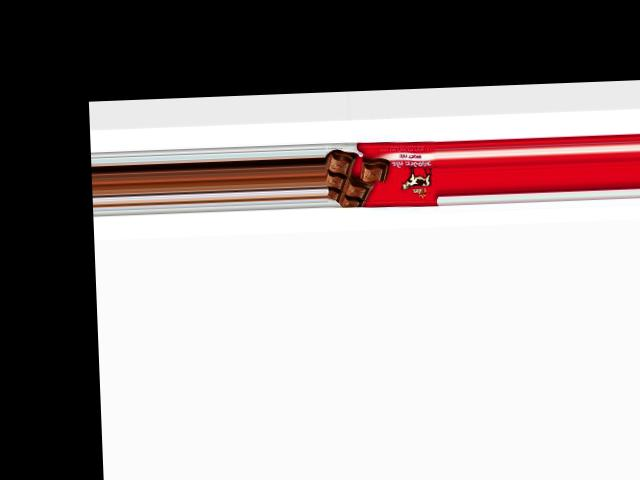chocolate: (325, 138, 439, 208)
